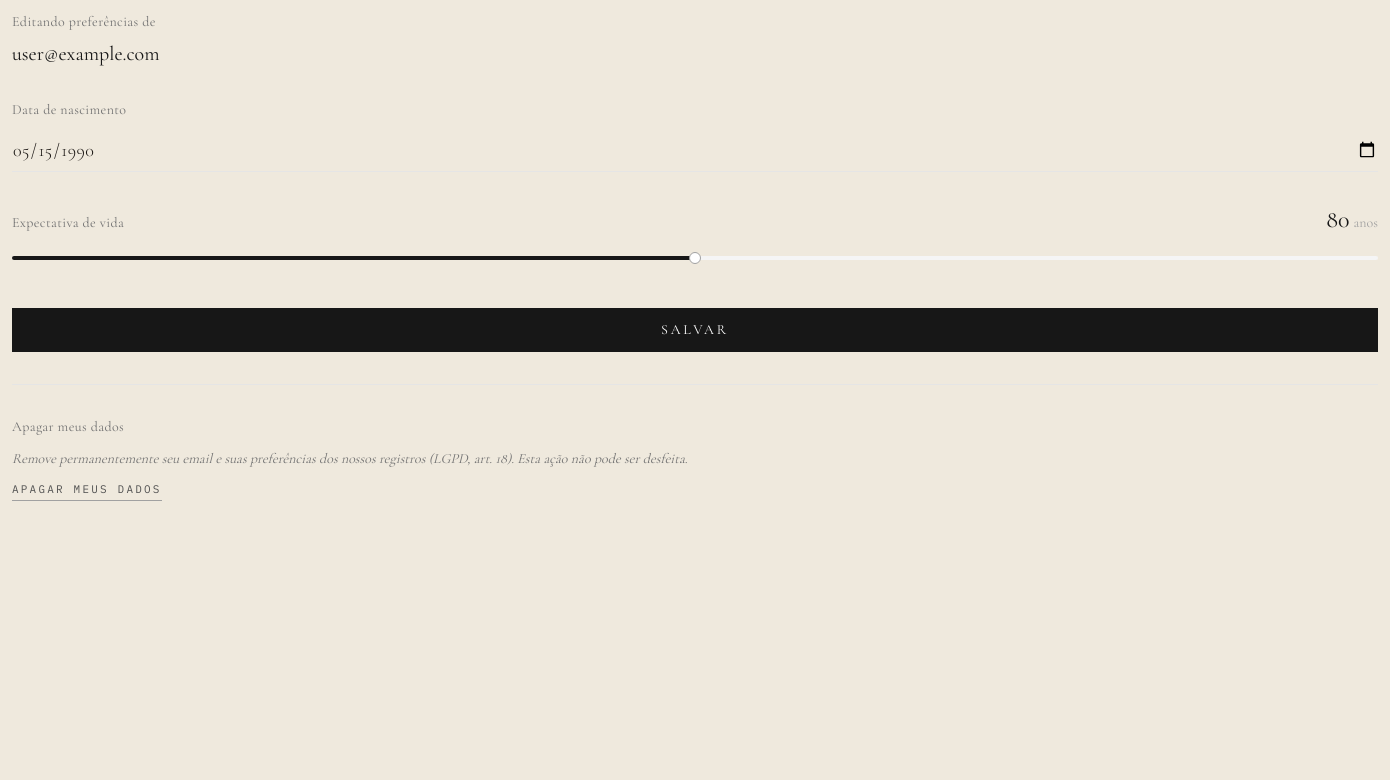
Test: EditForm (Feature E.16) › on 404 not_found renders 'Link inválido ou expirado.'
The image size is (1390, 780).
Click the button "Salvar": (695, 330) left=12, top=308, right=1378, bottom=352
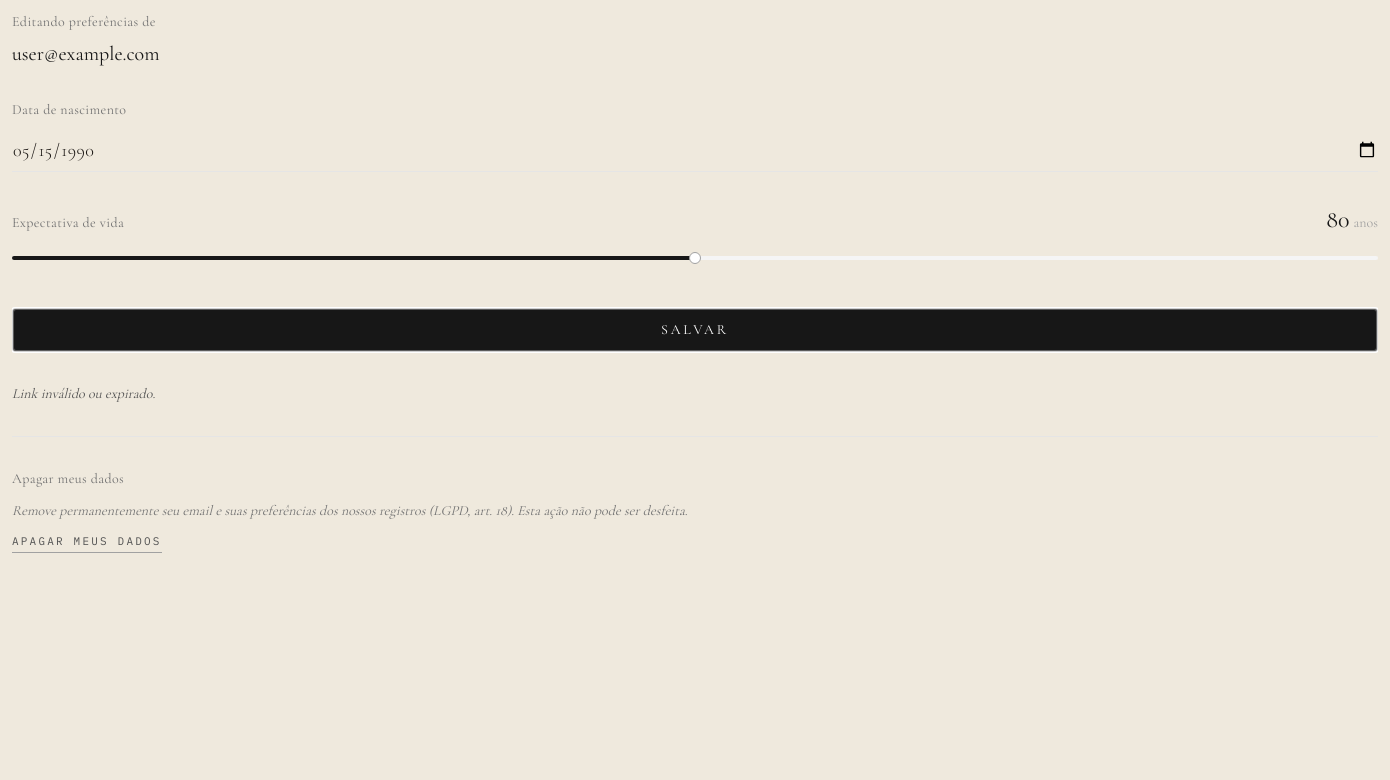
Expected: the text "Link inválido ou expirado." is shown, left=12, top=385, right=155, bottom=402
